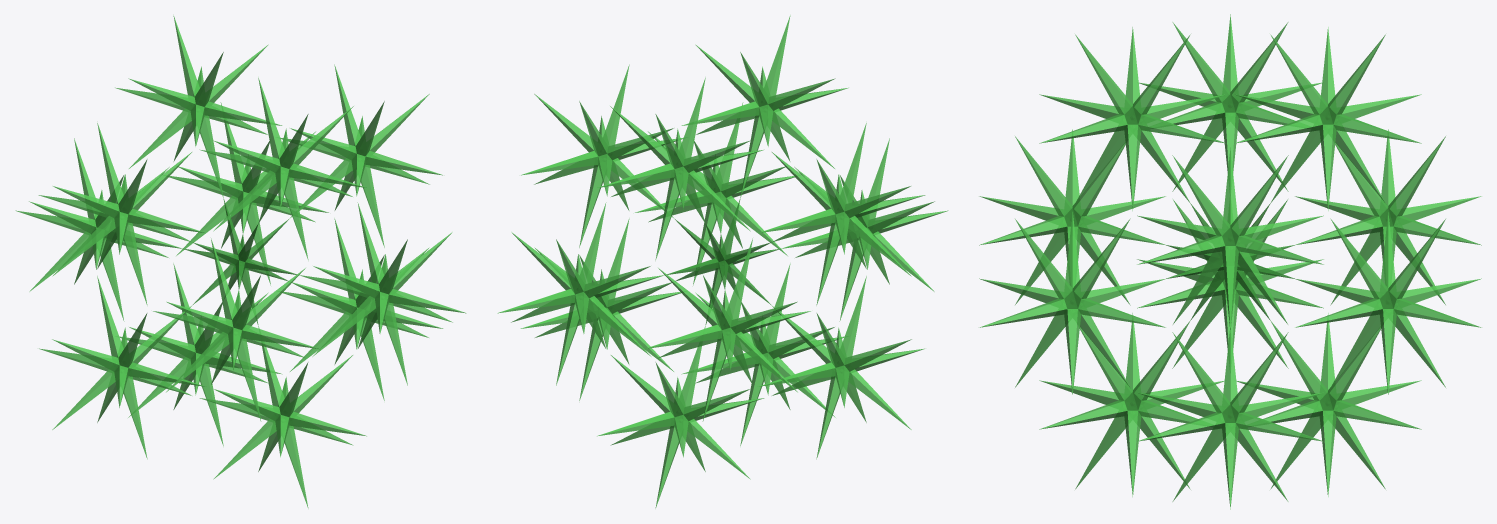
File: fractalgreatpentakisdodecahedron1.glb
3 views of the same model, side by side, from view 1: azimuth 30°, elevation 25°; view 2: azimuth 150°, elevation 25°; view 3: azimuth 270°, elevation 25° (orthographic). The views are drawn at different scales.
Bounding box in the file's own units: 10.47 × 10.47 × 10.47.
